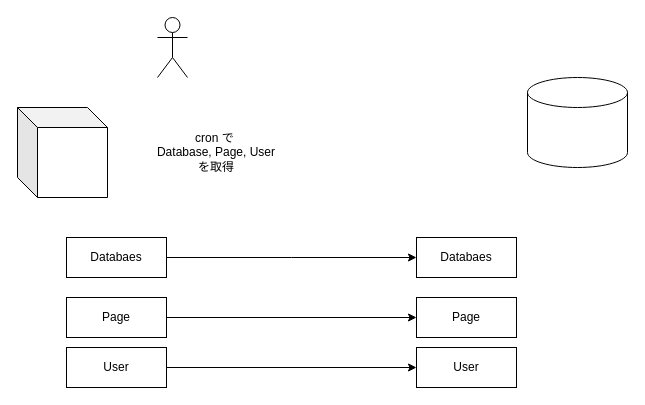
This 645x405 diagram has some shape labels left out. The shapes that lost their labels are listed below. From the top down, each one's centre as x and y in pixels, then its label:
At (x=172, y=47): "NotionIntegration".
At (x=577, y=122): "PostgreSQL".
At (x=62, y=152): "Notion".
